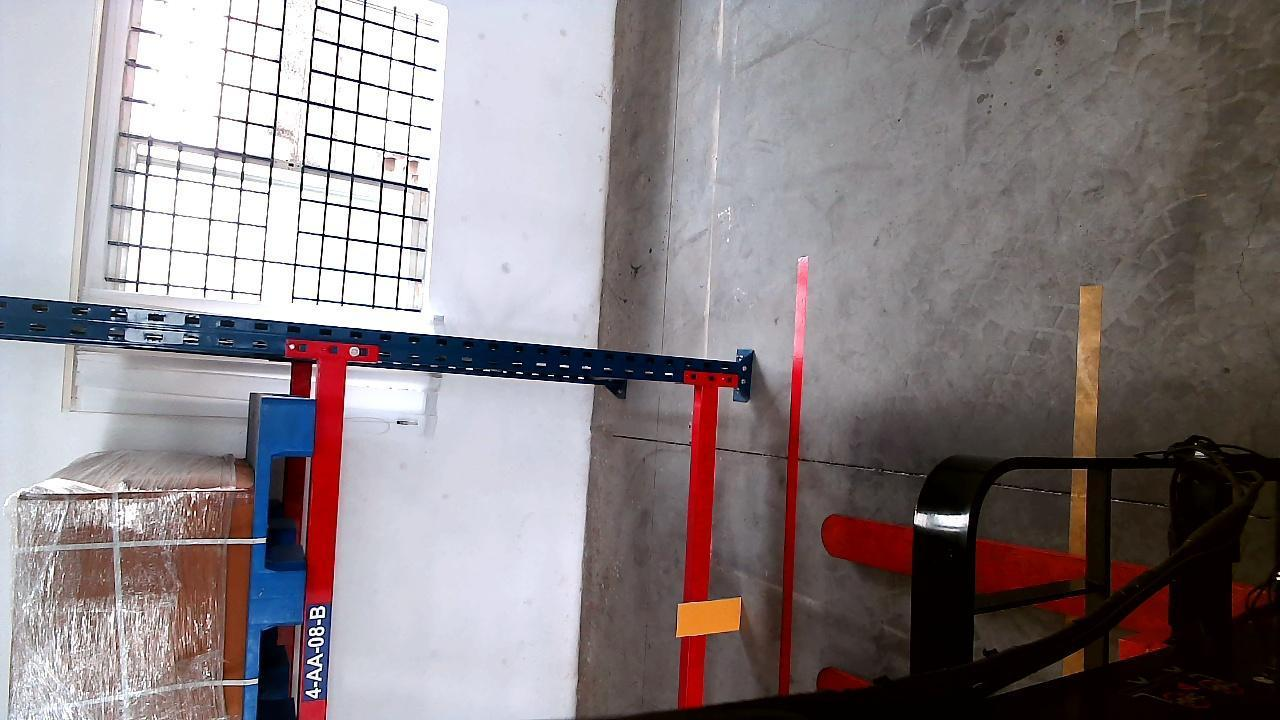h_rack: (303, 362, 345, 720), (684, 383, 716, 702)
orange_strip: (679, 597, 742, 636)
red_line: (777, 257, 808, 703)
small_pallet: (241, 392, 311, 718)
yellow_line: (1068, 282, 1103, 578)
